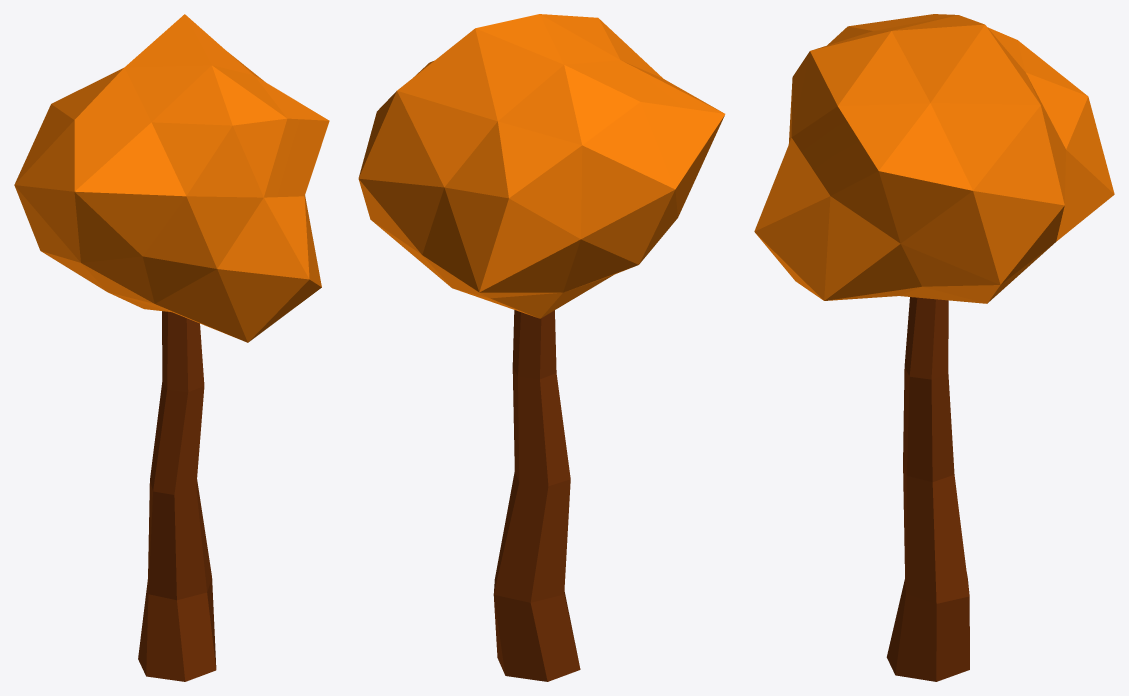
The model's file is Tree_3_Orange.fbx.
The picture shows the model from 3 angles, left to right: view 1: azimuth 30°, elevation 25°; view 2: azimuth 150°, elevation 25°; view 3: azimuth 270°, elevation 25°; orthographic projection. The views are drawn at different scales.
Parts seen in each view (by area): view 1: pPlatonic1, pCylinder2; view 2: pPlatonic1, pCylinder2; view 3: pPlatonic1, pCylinder2.
Boxes of the visible parts, x1=… form: pPlatonic1: x1=14, y1=14, x2=329, y2=342; pCylinder2: x1=138, y1=311, x2=216, y2=681; pPlatonic1: x1=358, y1=14, x2=725, y2=318; pCylinder2: x1=493, y1=310, x2=580, y2=681; pPlatonic1: x1=754, y1=14, x2=1114, y2=303; pCylinder2: x1=886, y1=297, x2=969, y2=681.
Bounding box in the file's own units: 523 × 1104 × 549.
